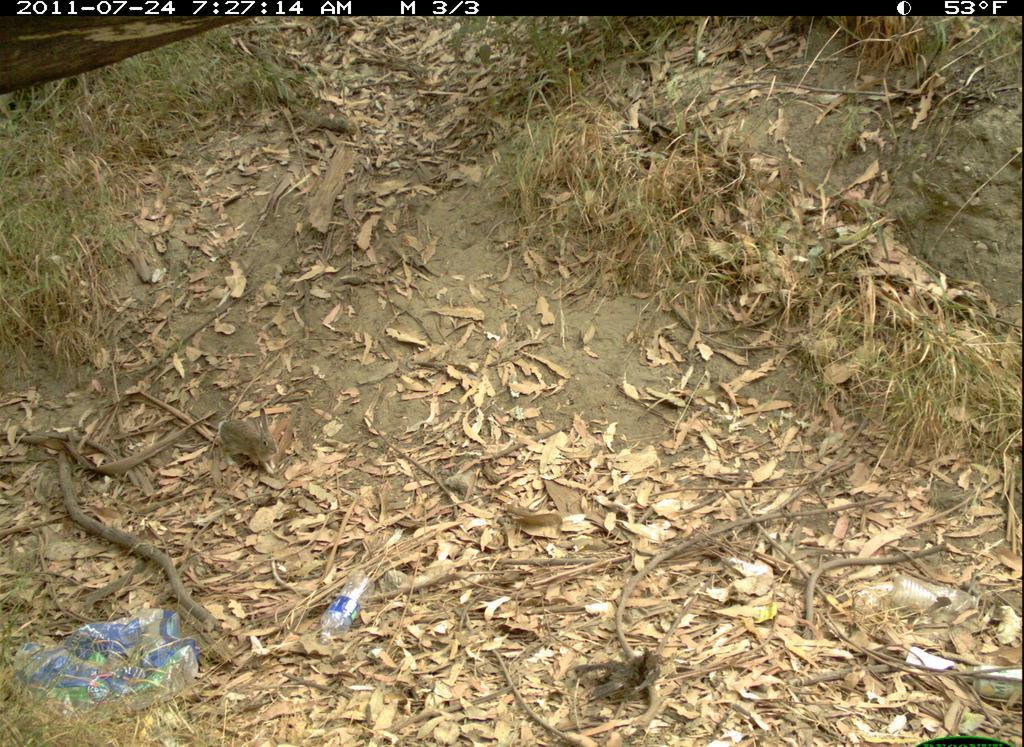rabbit: (216, 401, 294, 481)
